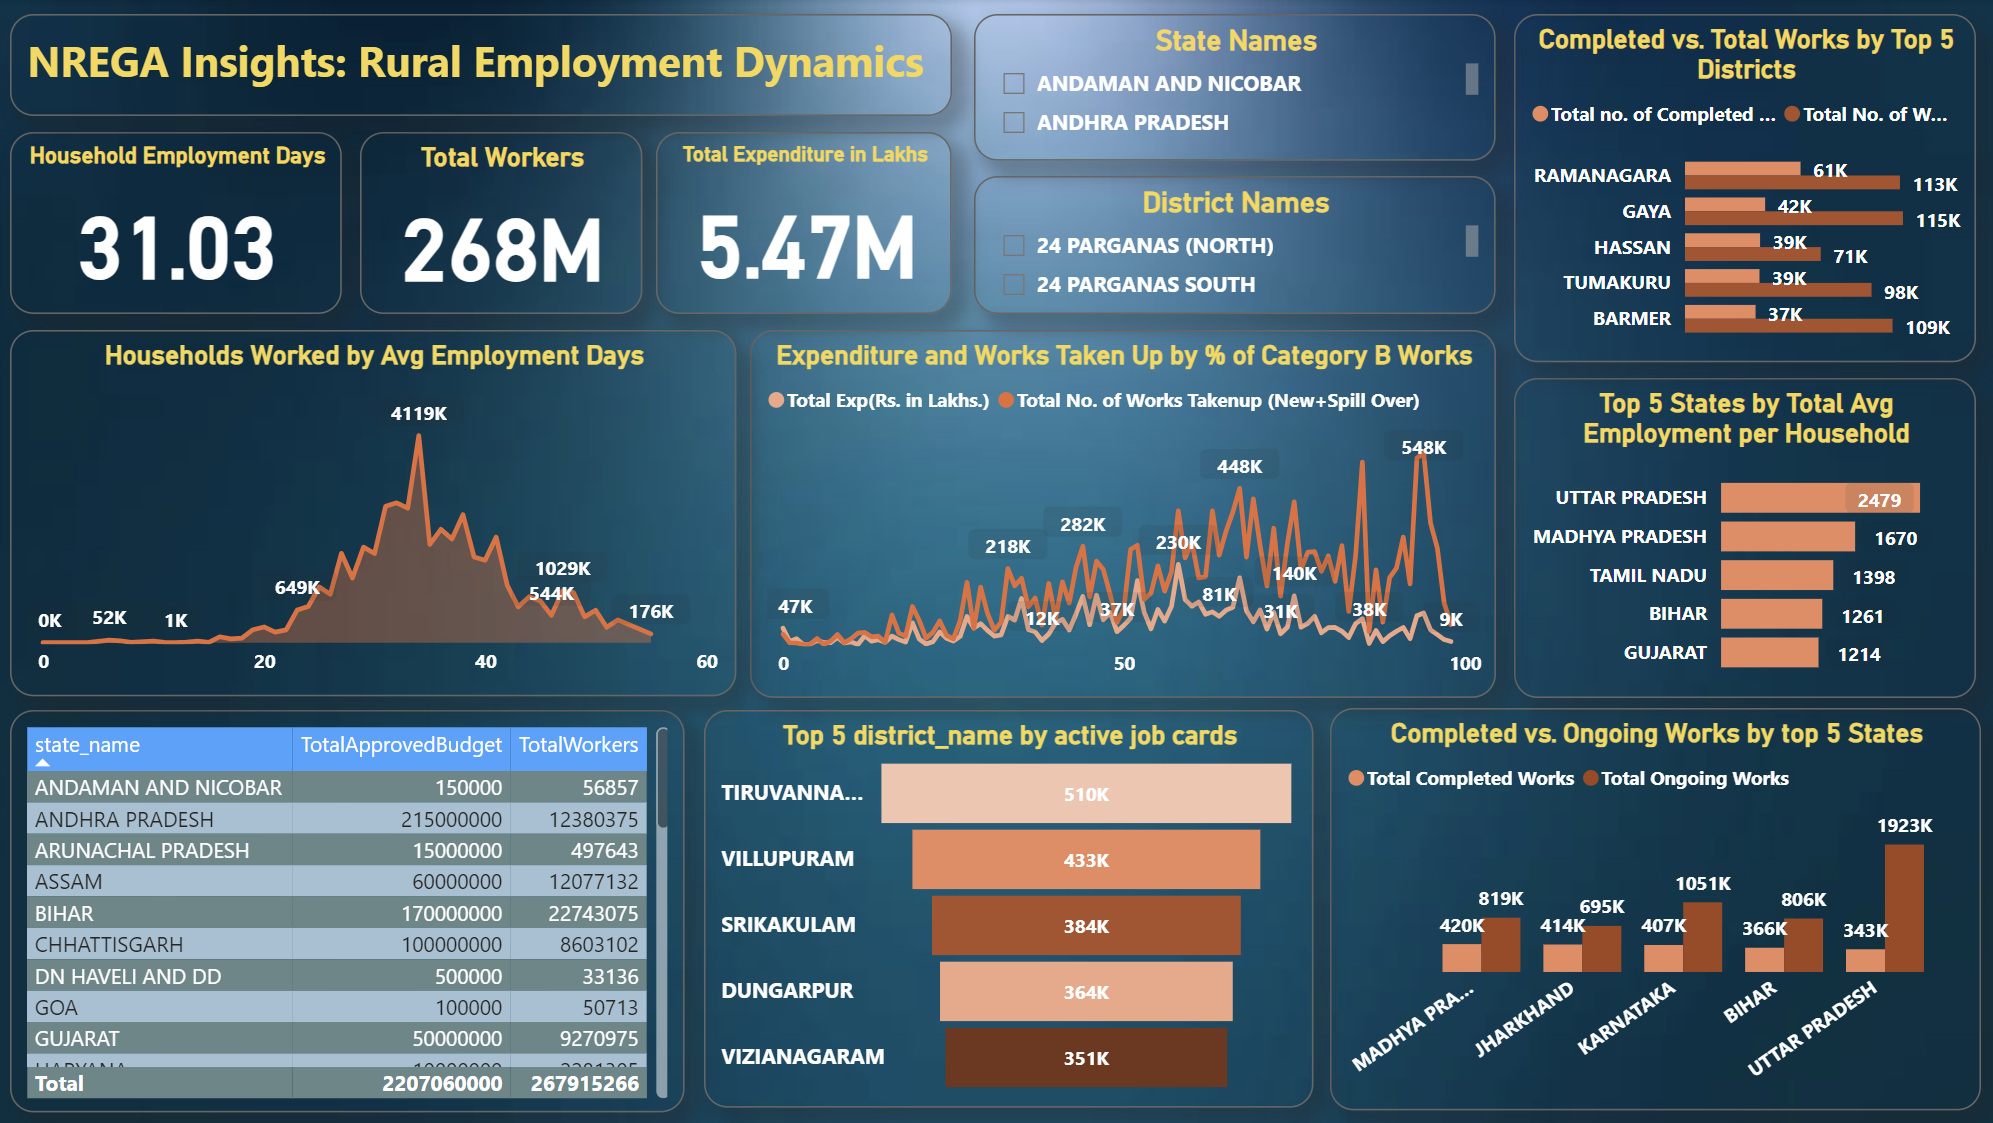

What the dashboard file says about the page in this screenshot:
{"tool":"powerbi","page":{"name":"NREGA","canvas":[1280,720],"ordinal":0},"visuals":[{"type":"card","title":"Household Employment Days","fields":{"Values":["Avg(NREGA.Average days of employment provided per Household)"]},"box":[15.3,85.4,211.6,116],"z":0},{"type":"barChart","title":"Top 5 States by Total Avg Employment per Household","fields":{"Y":["Sum(NREGA.Average days of employment provided per Household)"],"Category":["NREGA.state_name"]},"box":[974,242.2,294.5,204],"z":1000},{"type":"pivotTable","title":"Approved Labour Budget vs Avg. Employment Days per Household","fields":{"Values":["Sum(NREGA.Approved Labour Budget)","Sum(NREGA.Total No. of Workers)"],"Rows":["NREGA.state_name"]},"box":[14.7,453.8,429.8,256.3],"z":2000},{"type":"clusteredBarChart","title":"Completed vs. Total Works by Top 5 Districts","fields":{"Category":["NREGA.district_name"],"Y":["Sum(NREGA.Number of Completed Works)","Sum(NREGA.Total No. of Works Takenup (New+Spill Over))"]},"box":[974,10.2,294.5,221.8],"z":3000},{"type":"slicer","title":"State Names","fields":{"Values":["NREGA.state_name"]},"box":[630,10.7,332.3,93.4],"z":4000},{"type":"slicer","title":"District Names","fields":{"Values":["NREGA.district_name"]},"box":[630,113.5,332.3,88.1],"z":5000},{"type":"card","title":"Total Workers","fields":{"Values":["Sum(NREGA.TotalWorkers)"]},"box":[238.4,85.4,179.8,116],"z":6000},{"type":"textbox","box":[15.3,10.2,600.5,65],"z":7000},{"type":"card","title":"Total Expenditure in Lakhs","fields":{"Values":["Sum(NREGA.Total Exp(Rs. in Lakhs.))"]},"box":[427.1,85.4,188.7,116],"z":8000},{"type":"lineChart","title":"Expenditure and Works Taken Up by % of Category B Works","fields":{"Category":["NREGA.% of Category B Works"],"Y":["Sum(NREGA.Total Exp(Rs. in Lakhs.))","Sum(NREGA.Total No. of Works Takenup (New+Spill Over))"]},"box":[487,211.6,475.5,234.6],"z":9000},{"type":"clusteredColumnChart","title":"Completed vs. Ongoing Works by top 5 States","fields":{"Category":["NREGA.state_name"],"Y":["Sum(NREGA.Number of Completed Works)","Sum(NREGA.Number of Ongoing Works)"]},"box":[856.9,452.5,415.1,256.3],"z":10000},{"type":"areaChart","title":"Households Worked by Avg Employment Days","fields":{"Category":["NREGA.Average days of employment provided per Household"],"Y":["Sum(NREGA.Total Households Worked)"]},"box":[15.3,211.6,462.8,233.3],"z":11000},{"type":"funnel","title":"Top 5 district_name by  active job cards","fields":{"Category":["NREGA.district_name"],"Y":["Sum(NREGA.Total No. of Active Job Cards)"]},"box":[457.8,453.8,388.4,253.6],"z":12000}]}

Visuals, with their boxes in screenshot pixels (x1, y1, x2, y2), scaled from the page's 1280x720 canvas onto the 1993x1123 screenshot:
"Household Employment Days" card: bbox(24, 133, 353, 314)
"Top 5 States by Total Avg Employment per Household" barChart: bbox(1517, 378, 1975, 696)
"Approved Labour Budget vs Avg. Employment Days per Household" pivotTable: bbox(23, 708, 692, 1108)
"Completed vs. Total Works by Top 5 Districts" clusteredBarChart: bbox(1517, 16, 1975, 362)
"State Names" slicer: bbox(981, 17, 1498, 162)
"District Names" slicer: bbox(981, 177, 1498, 314)
"Total Workers" card: bbox(371, 133, 651, 314)
textbox: bbox(24, 16, 959, 117)
"Total Expenditure in Lakhs" card: bbox(665, 133, 959, 314)
"Expenditure and Works Taken Up by % of Category B Works" lineChart: bbox(758, 330, 1499, 696)
"Completed vs. Ongoing Works by top 5 States" clusteredColumnChart: bbox(1334, 706, 1981, 1106)
"Households Worked by Avg Employment Days" areaChart: bbox(24, 330, 744, 694)
"Top 5 district_name by  active job cards" funnel: bbox(713, 708, 1318, 1103)
